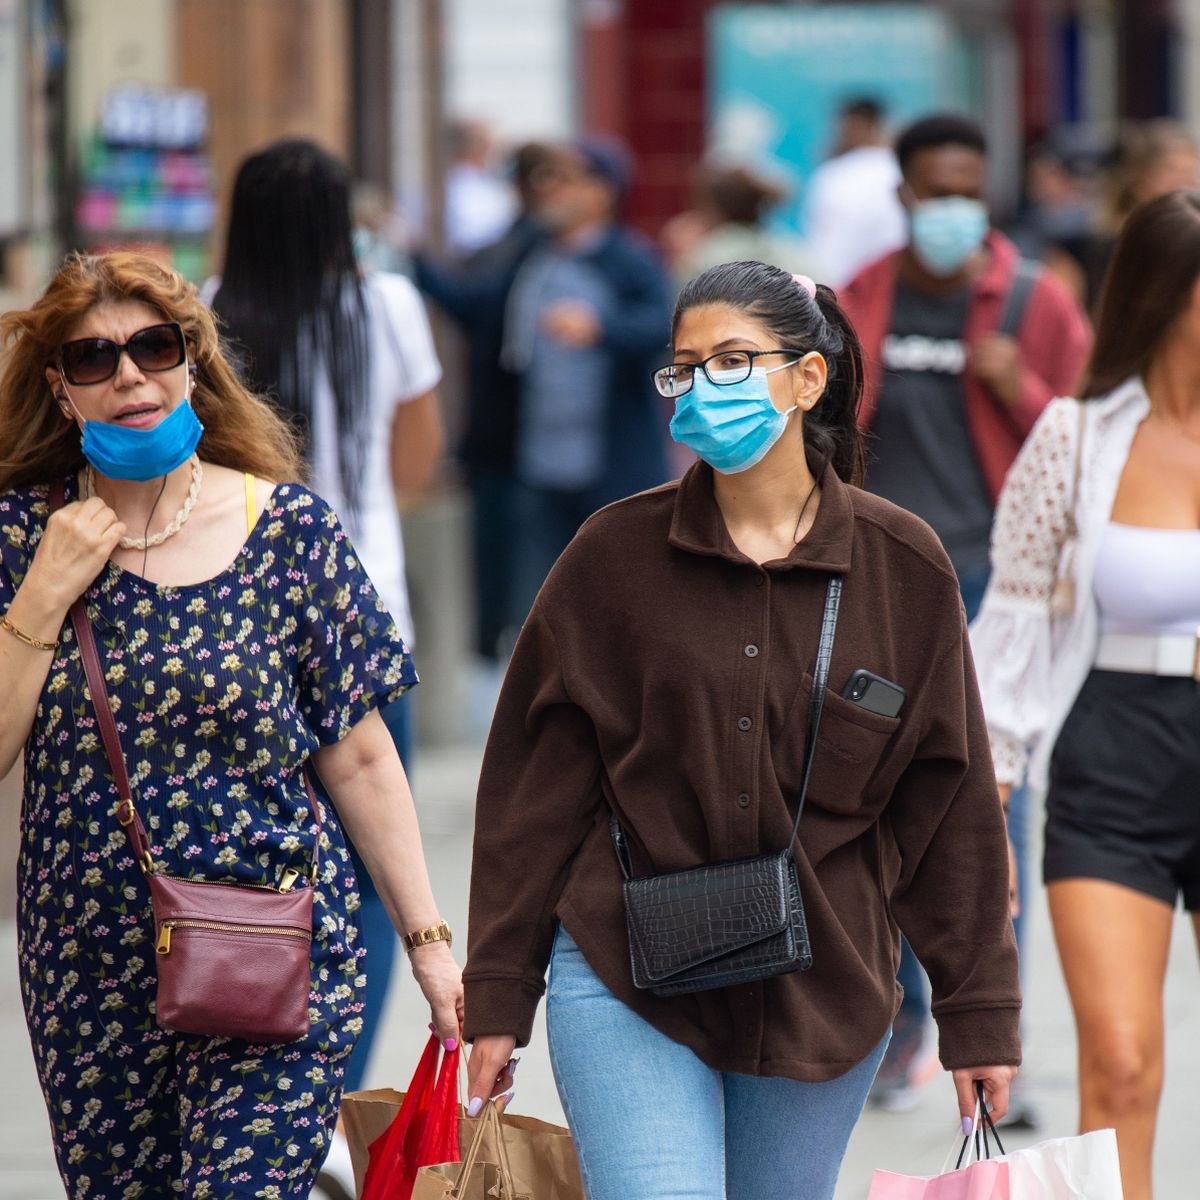with_incorrect_mask: (65, 310, 209, 483)
with_mask: (667, 321, 791, 468)
